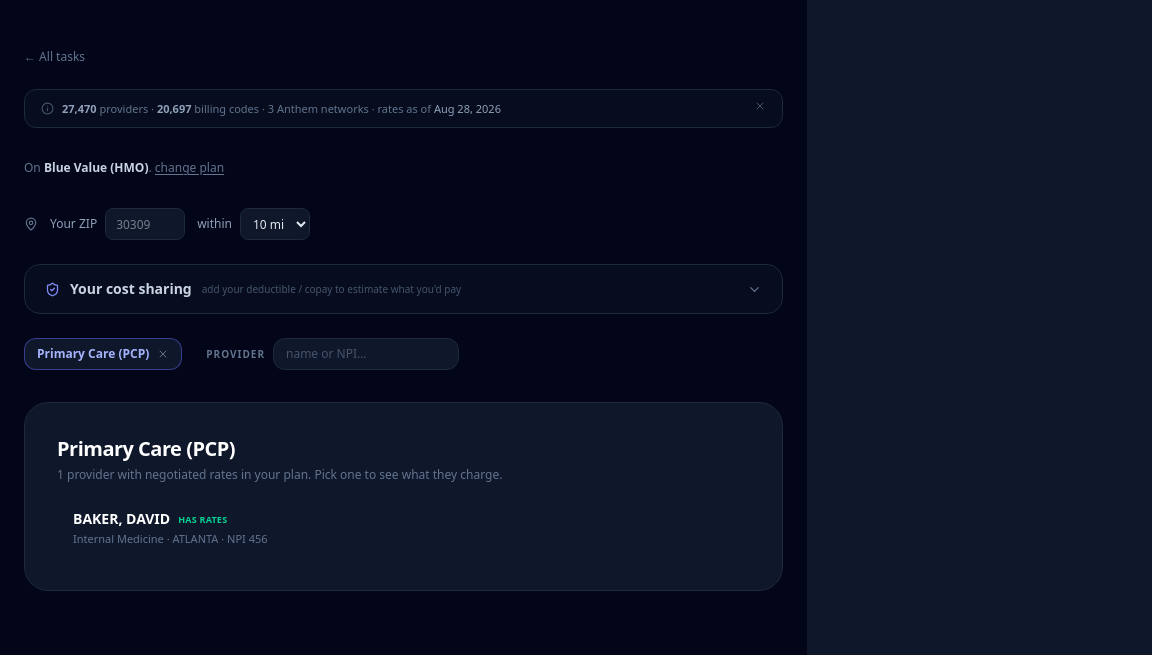
Test: deep links (docs/journeys.md) › scopes the provider menu to the new-patient-visit codes once a PCP is picked
(page scrolled)
Click the text "BAKER, DAVID".
click(122, 519)  # box top-left (73, 509), bottom-right (170, 529)
(page scrolled)
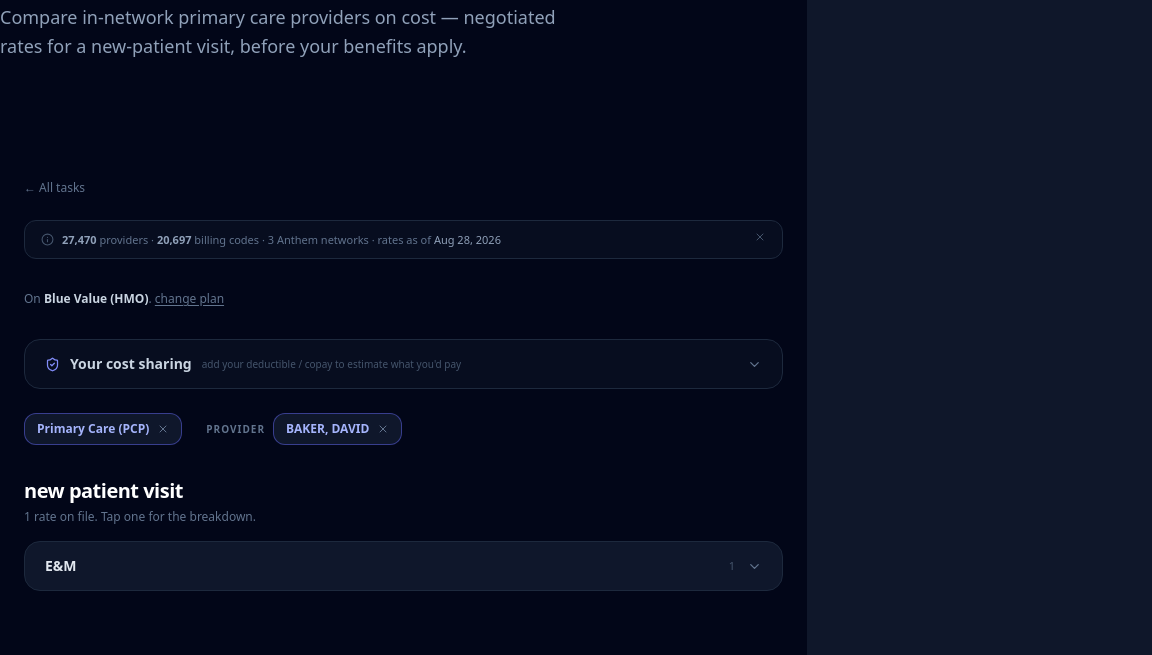
Now the heading "new patient visit" is shown, box top-left (24, 477), bottom-right (183, 504)
Now the text "E&M" is shown
Click the text "E&M".
click(61, 566)  # box top-left (45, 556), bottom-right (76, 576)
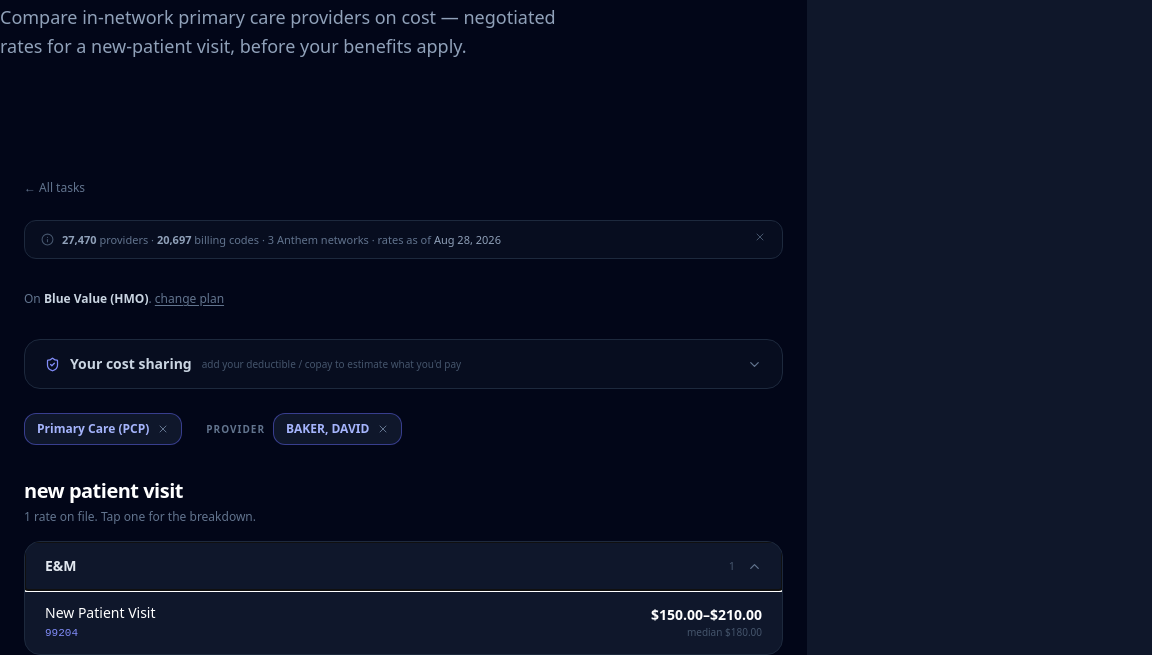
Now the text "New Patient Visit" is shown, box top-left (45, 603), bottom-right (156, 623)
